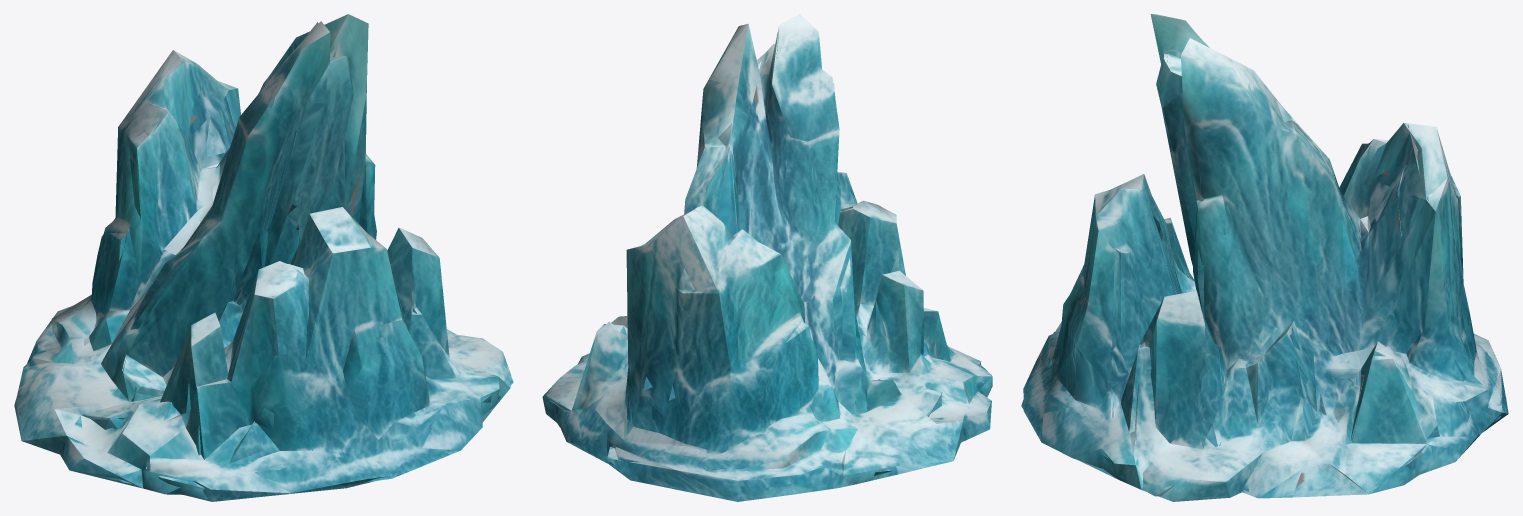
The picture shows the model from 3 angles, left to right: view 1: azimuth 30°, elevation 25°; view 2: azimuth 150°, elevation 25°; view 3: azimuth 270°, elevation 25°; orthographic projection. The views are drawn at different scales.
Parts seen in each view (by area): view 1: glacier-spires.001; view 2: glacier-spires.001; view 3: glacier-spires.001.
Part boxes in pixels (x1,y1,x2,y2): glacier-spires.001: (14, 14, 513, 501); glacier-spires.001: (542, 14, 992, 501); glacier-spires.001: (1021, 14, 1508, 501).
Size of the model in its own units: 14.69 by 12.93 by 14.43.
1 material, 1 textured.
